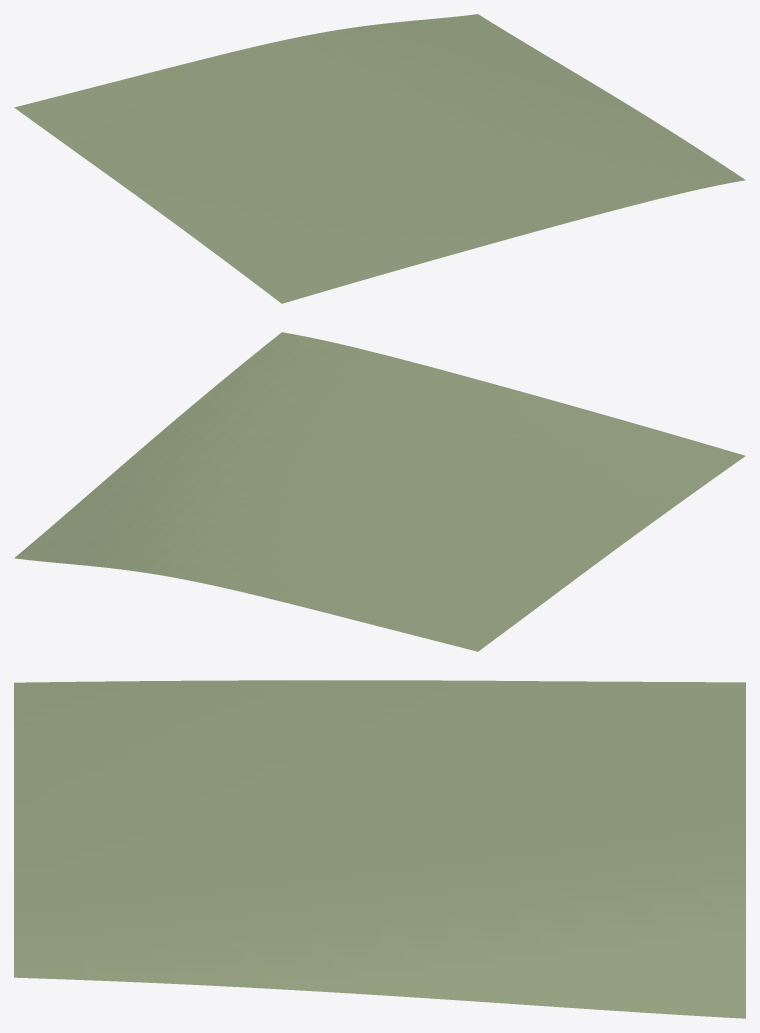
The model's file is desert-11-18.glb.
3 views of the same model, one above another, from view 1: azimuth 30°, elevation 25°; view 2: azimuth 150°, elevation 25°; view 3: azimuth 270°, elevation 25° (orthographic). The views are drawn at different scales.
Visible parts, largest first — view 1: desert-11-18; view 2: desert-11-18; view 3: desert-11-18.
Part boxes in pixels (<box>): desert-11-18: <box>14,14,745,303</box>; desert-11-18: <box>14,332,745,651</box>; desert-11-18: <box>14,680,745,1018</box>.
Size of the model in its own units: 512 by 34.29 by 512.
